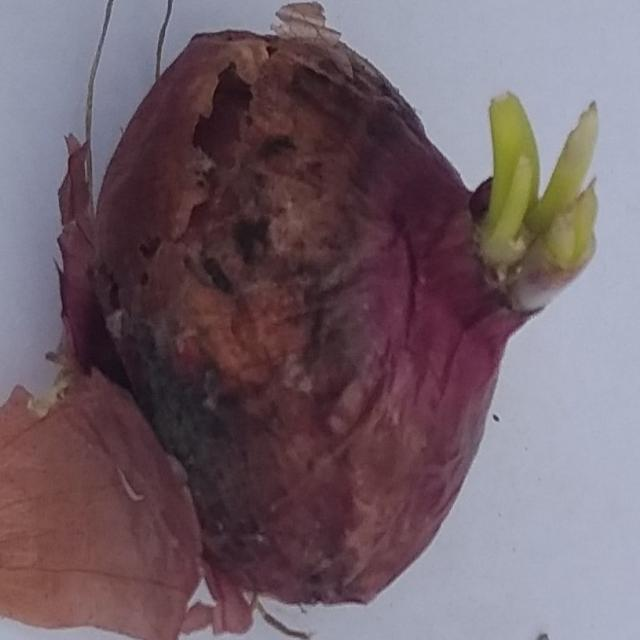onion: (0, 4, 600, 630)
